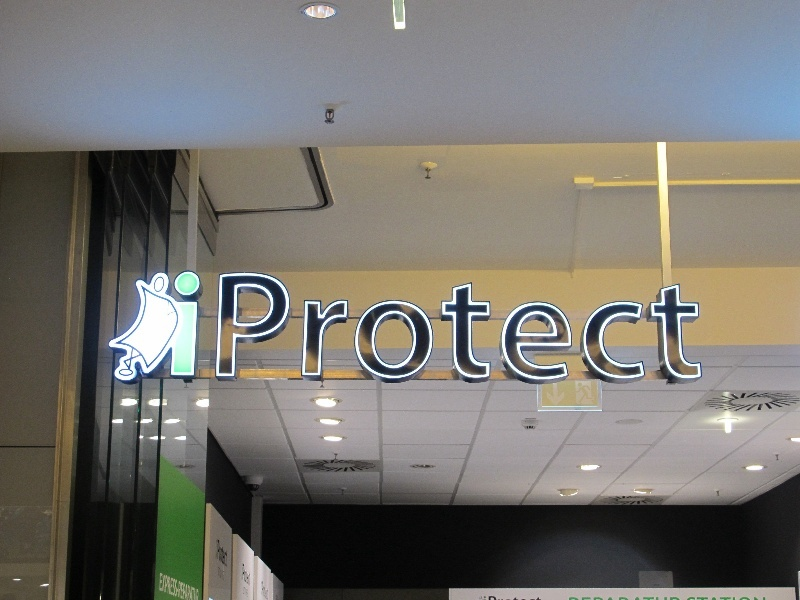text: (177, 271, 192, 381), (193, 271, 208, 381), (209, 271, 224, 381), (225, 271, 240, 381), (241, 271, 256, 381), (257, 271, 272, 381), (273, 271, 288, 381), (289, 271, 304, 381), (305, 271, 320, 381), (321, 271, 336, 381), (337, 271, 352, 381), (353, 271, 368, 381), (369, 271, 384, 381), (385, 271, 400, 381), (401, 271, 416, 381), (417, 271, 432, 381), (433, 271, 448, 381), (449, 271, 464, 381), (465, 271, 480, 381), (481, 271, 496, 381), (497, 271, 512, 381), (513, 271, 528, 381), (529, 271, 544, 381), (545, 271, 560, 381), (561, 271, 576, 381), (577, 271, 592, 381), (593, 271, 608, 381), (609, 271, 624, 381), (625, 271, 640, 381), (641, 271, 656, 381), (657, 271, 672, 381), (673, 271, 688, 381), (689, 271, 703, 381), (161, 573, 176, 600), (177, 573, 192, 600), (243, 563, 256, 586), (217, 537, 224, 568), (262, 581, 272, 600), (193, 573, 199, 600), (243, 587, 256, 597), (175, 271, 176, 381), (225, 537, 228, 568), (218, 567, 224, 580)
